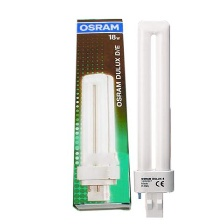carton: (65, 11, 133, 212)
light_bulb: (128, 15, 180, 216)
